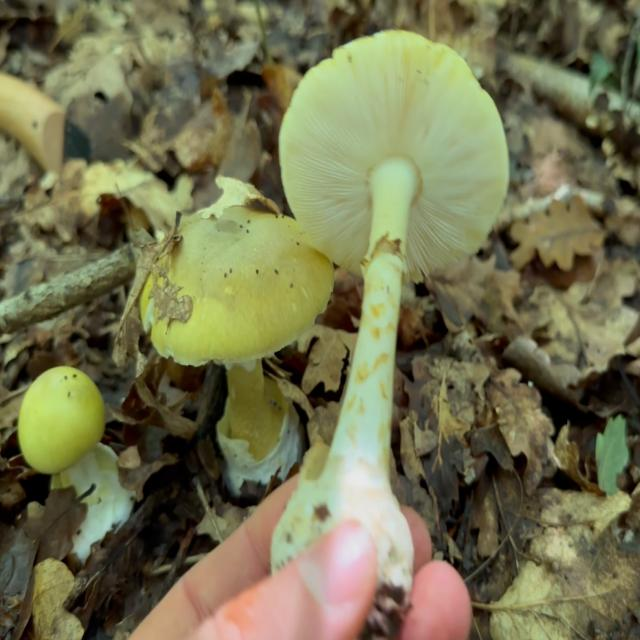death-cap: (269, 30, 510, 593), (127, 203, 335, 510), (17, 366, 106, 500)
